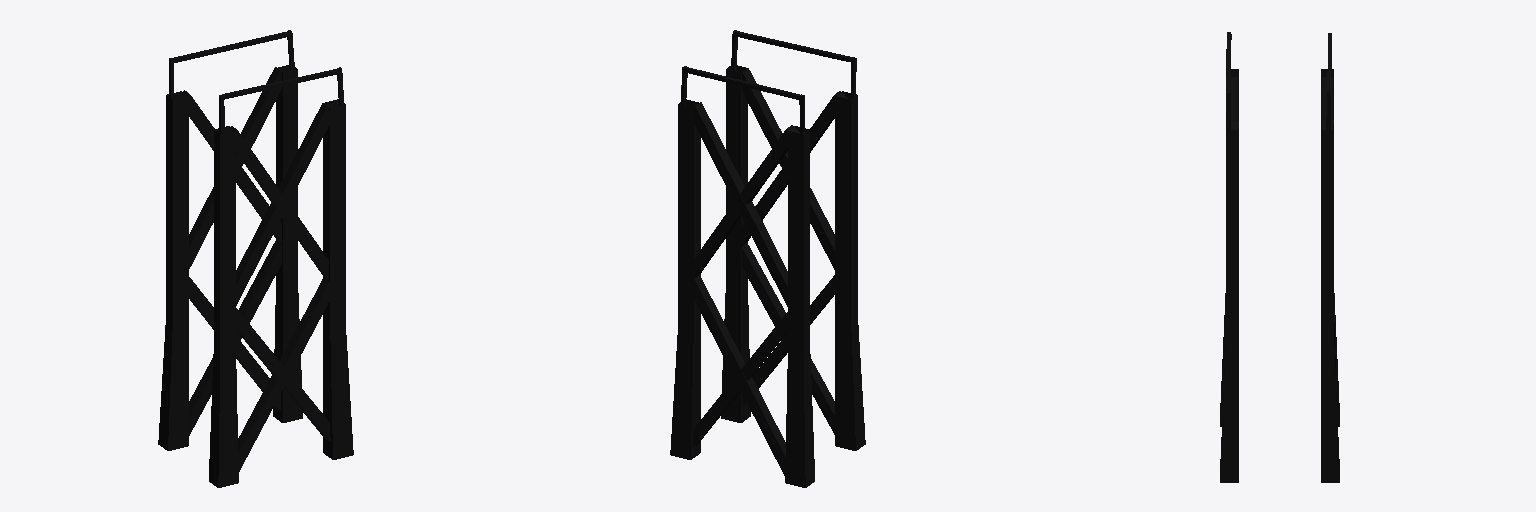
File: scaf.obj
3 views of the same model, side by side, from view 1: azimuth 30°, elevation 25°; view 2: azimuth 150°, elevation 25°; view 3: azimuth 270°, elevation 25° (orthographic).
Visible parts, largest first — view 1: scaf; view 2: scaf; view 3: scaf.
Boxes of the visible parts, x1=… form: scaf: x1=158, y1=30, x2=353, y2=487; scaf: x1=670, y1=30, x2=865, y2=487; scaf: x1=1220, y1=32, x2=1339, y2=482.
Bounding box in the file's own units: 3.25 × 8.88 × 2.5.